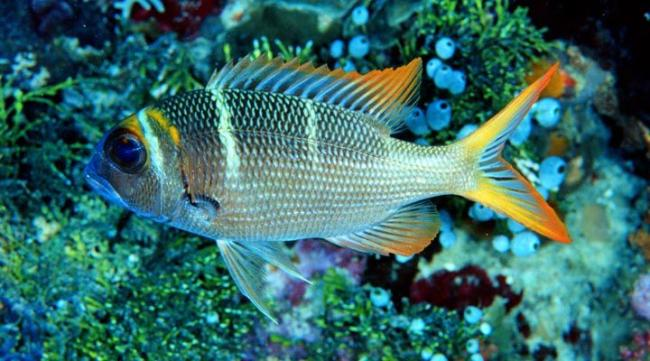fish: (85, 56, 574, 325)
